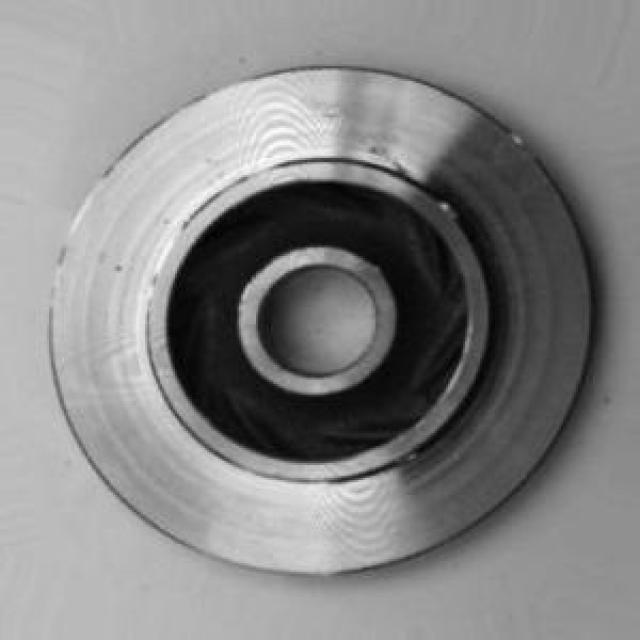Defect: (105, 257, 133, 280)
